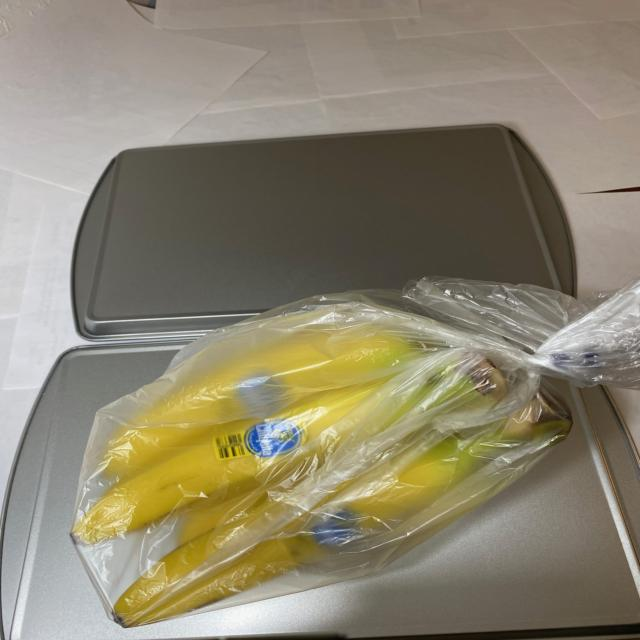banana: (69, 294, 575, 632)
